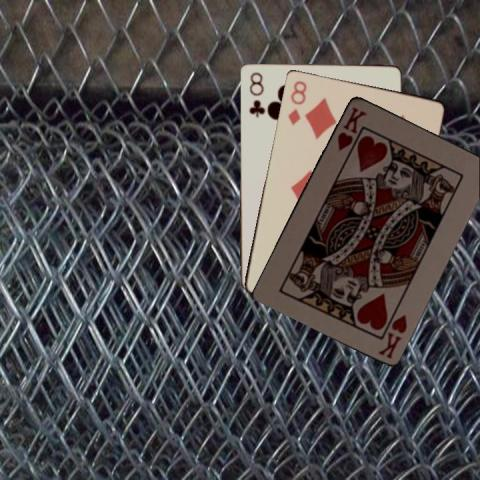8c: (246, 69, 264, 118)
8d: (285, 77, 308, 127)
Kh: (334, 103, 368, 152), (374, 311, 408, 360)
